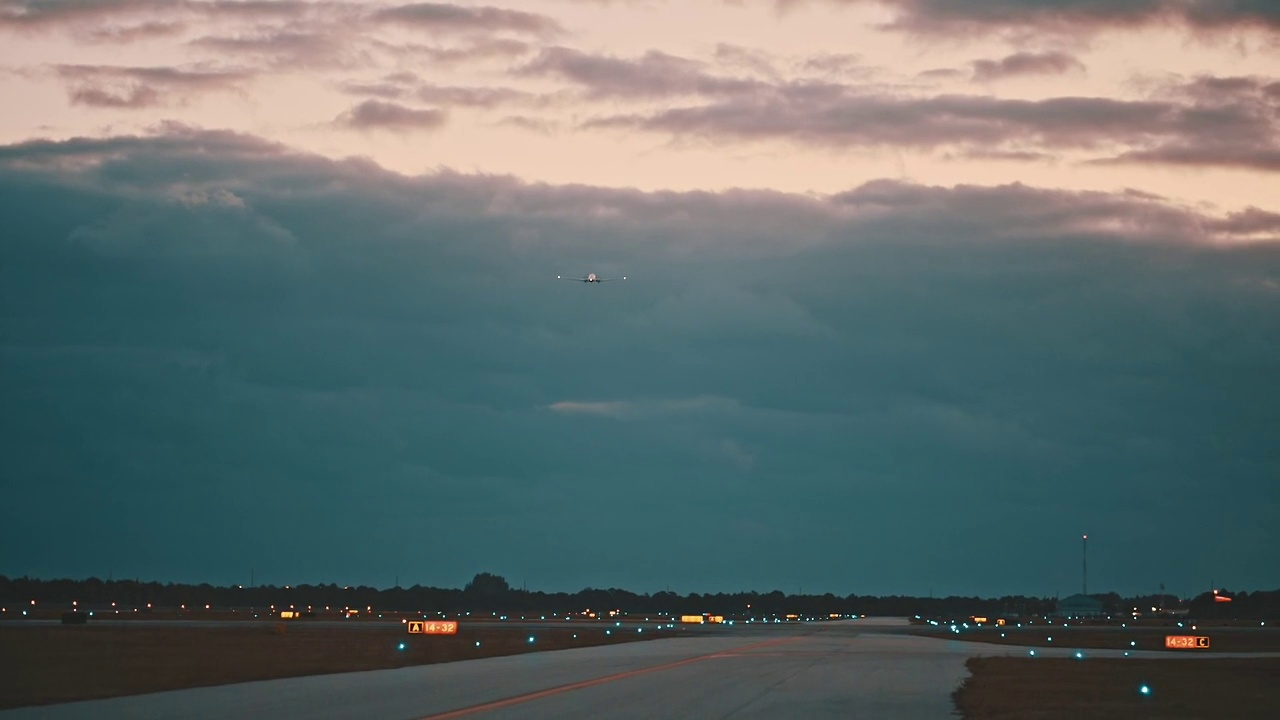plane: (556, 271, 628, 284)
